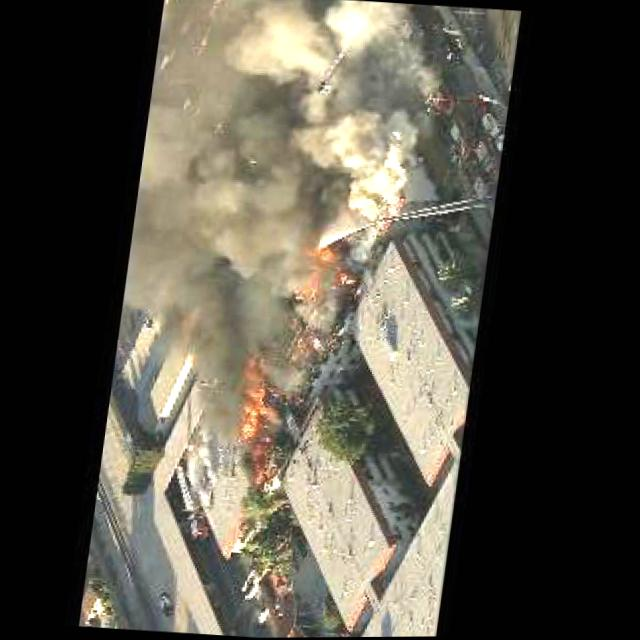Fire: (238, 354, 275, 426), (253, 456, 277, 483), (306, 270, 321, 295), (316, 244, 336, 262), (339, 270, 357, 285)
Smoke: (118, 0, 430, 381)
